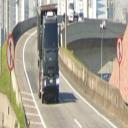NoSeguir: (6, 34, 15, 72), (116, 36, 122, 64)
